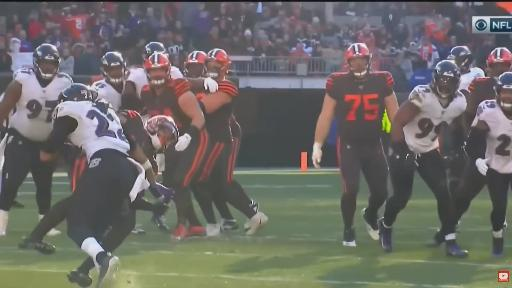Helmet: (145, 116, 178, 151), (431, 60, 460, 98), (33, 44, 60, 79), (344, 43, 371, 76), (144, 53, 171, 85), (101, 52, 126, 83), (206, 49, 231, 78), (448, 46, 473, 74), (58, 84, 94, 103), (487, 48, 511, 76), (496, 72, 511, 114), (184, 51, 207, 78), (143, 42, 167, 60)
Jersey: (326, 72, 393, 143), (10, 68, 73, 141), (54, 102, 129, 160), (403, 85, 466, 153), (473, 100, 511, 173), (141, 79, 191, 134), (204, 80, 237, 142), (118, 110, 155, 160), (466, 77, 496, 125), (92, 80, 121, 110), (126, 68, 148, 96), (460, 68, 485, 91), (230, 115, 241, 138), (3, 110, 14, 129)
Player: (40, 84, 154, 287), (379, 60, 467, 257), (312, 43, 397, 246), (0, 44, 72, 235), (198, 49, 267, 234), (141, 53, 209, 239), (466, 72, 511, 257), (102, 195, 170, 251), (117, 111, 177, 171), (465, 48, 511, 126), (187, 183, 235, 236), (92, 52, 126, 110), (449, 46, 485, 95), (440, 138, 466, 195), (122, 68, 148, 120), (122, 68, 149, 110), (228, 115, 242, 190), (0, 108, 15, 138)
